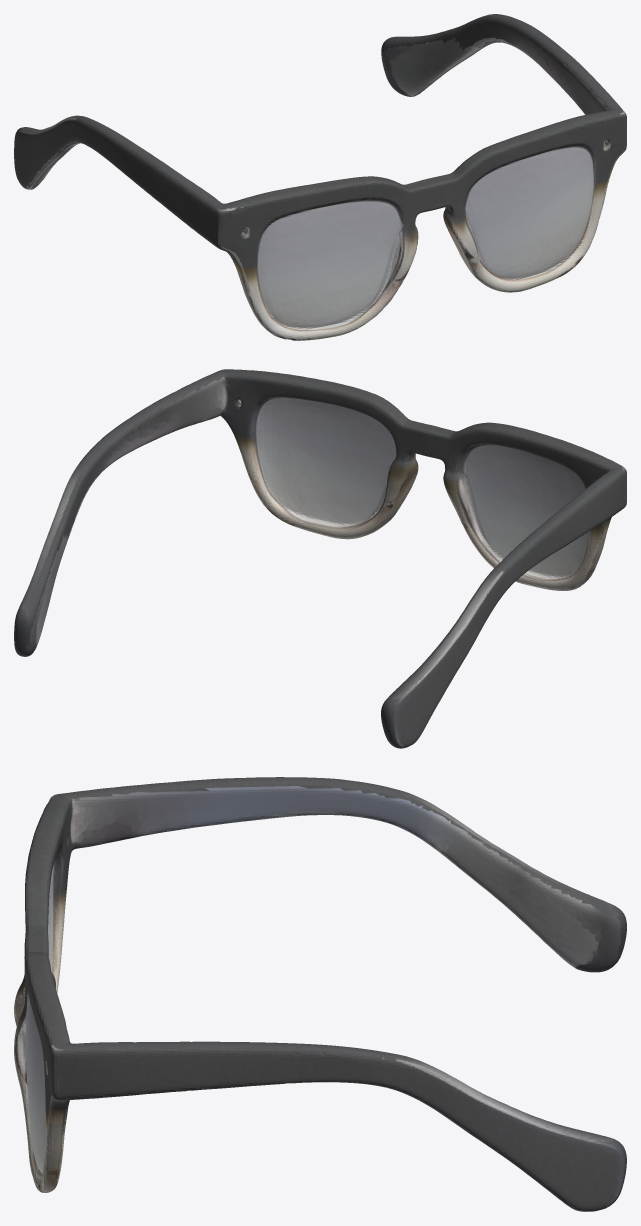
The picture shows the model from 3 angles, top to bottom: view 1: azimuth 30°, elevation 25°; view 2: azimuth 150°, elevation 25°; view 3: azimuth 270°, elevation 25°; orthographic projection. The views are drawn at different scales.
Visible parts, largest first — view 1: tmpl1fmwfyj.ply; view 2: tmpl1fmwfyj.ply; view 3: tmpl1fmwfyj.ply.
Boxes of the visible parts, x1,y1,x2,y2 form: tmpl1fmwfyj.ply: (14, 14, 626, 340); tmpl1fmwfyj.ply: (14, 369, 626, 748); tmpl1fmwfyj.ply: (14, 777, 626, 1211).
Size of the model in its own units: 1.99 by 0.6738 by 1.87.
Materials: 1 (1 with a texture image).
